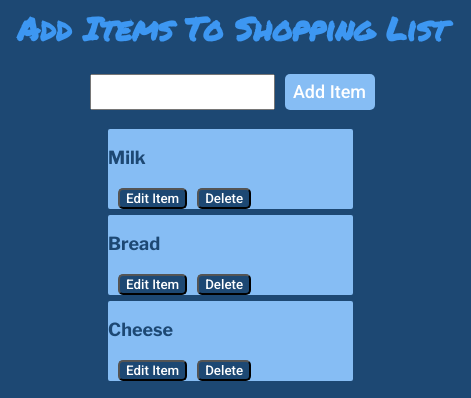
Test: should edit an item
This screenshot has width=471, height=398.
Click the button with aria-label "edit1".
click(153, 284)  # box [118,274,187,295]
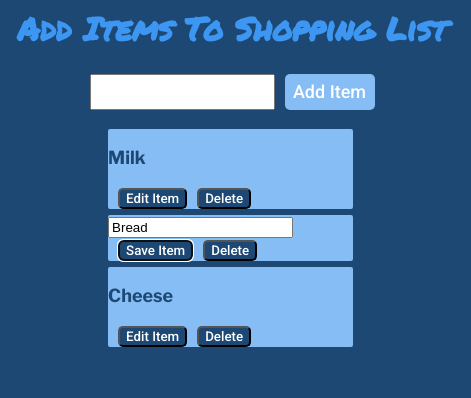
Now the field named "edit-input" is shown, box [108,217,293,238]
